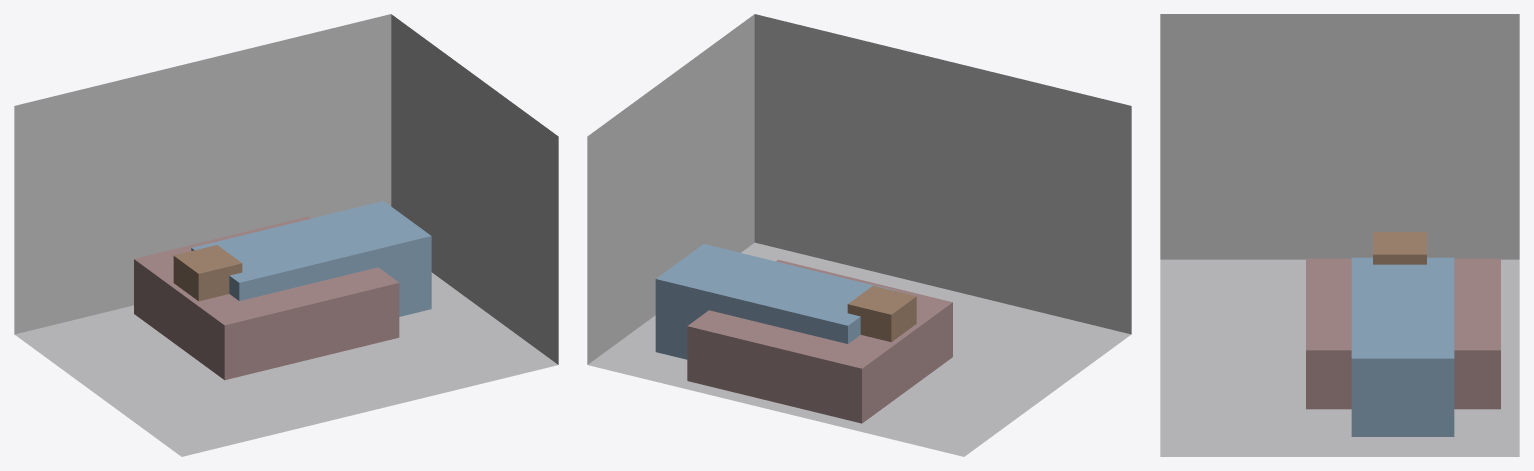
File: optimised_layout.glb
The picture shows the model from 3 angles, left to right: view 1: azimuth 30°, elevation 25°; view 2: azimuth 150°, elevation 25°; view 3: azimuth 270°, elevation 25°; orthographic projection. The views are drawn at different scales.
Parts seen in each view (by area): view 1: room, bed, couch, chair; view 2: room, bed, couch, chair; view 3: room, couch, bed, chair.
Boxes of the visible parts, left/top/right/bottom form: room: left=14, top=14, right=558, bottom=456; bed: left=134, top=216, right=399, bottom=380; couch: left=191, top=201, right=431, bottom=316; chair: left=173, top=245, right=242, bottom=301; room: left=587, top=14, right=1131, bottom=456; bed: left=687, top=259, right=952, bottom=423; couch: left=655, top=244, right=895, bottom=359; chair: left=847, top=286, right=916, bottom=342; room: left=1160, top=14, right=1519, bottom=456; couch: left=1351, top=257, right=1454, bottom=436; bed: left=1306, top=258, right=1500, bottom=409; chair: left=1373, top=232, right=1426, bottom=264.
Bounding box in the file's own units: 4.31 × 2.5 × 3.32.
